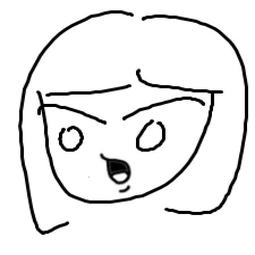empty_eye: (133, 116, 168, 160), (56, 122, 87, 158)
frowning_eyebrow: (119, 97, 211, 121), (30, 103, 104, 126)
open_mouth: (99, 155, 135, 186)
